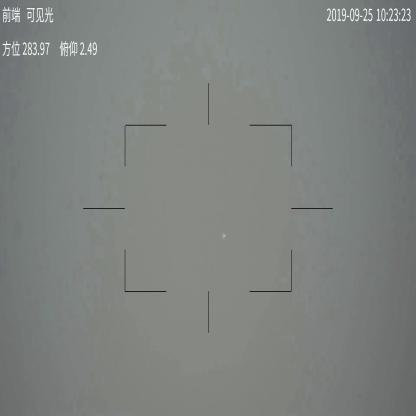uav: (221, 232, 227, 240)
